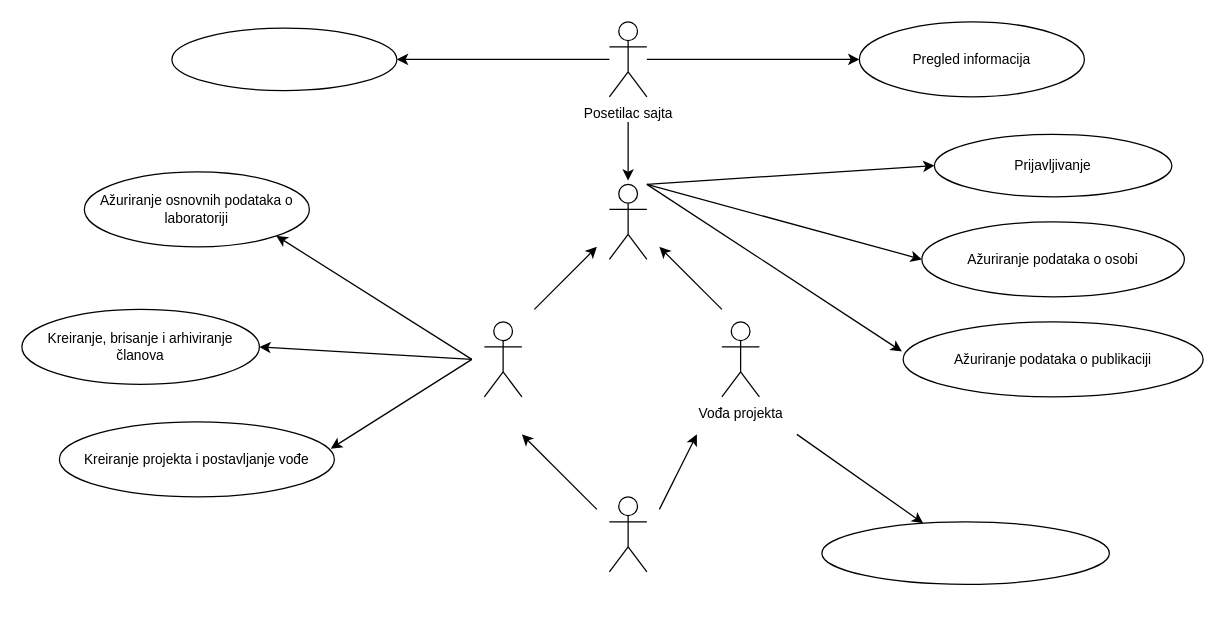
Image size: 1225x635. Some labels were removed from this diagram. Each missing label, with the box of its shape:
Administrator: (608, 496, 647, 572)
Ažuriranje podataka o projektima koje vodi: (821, 521, 1109, 584)
Izbor jezika: (171, 27, 397, 91)
Član laboratorije: (608, 183, 647, 259)
Šef laboratorije: (483, 321, 522, 397)
